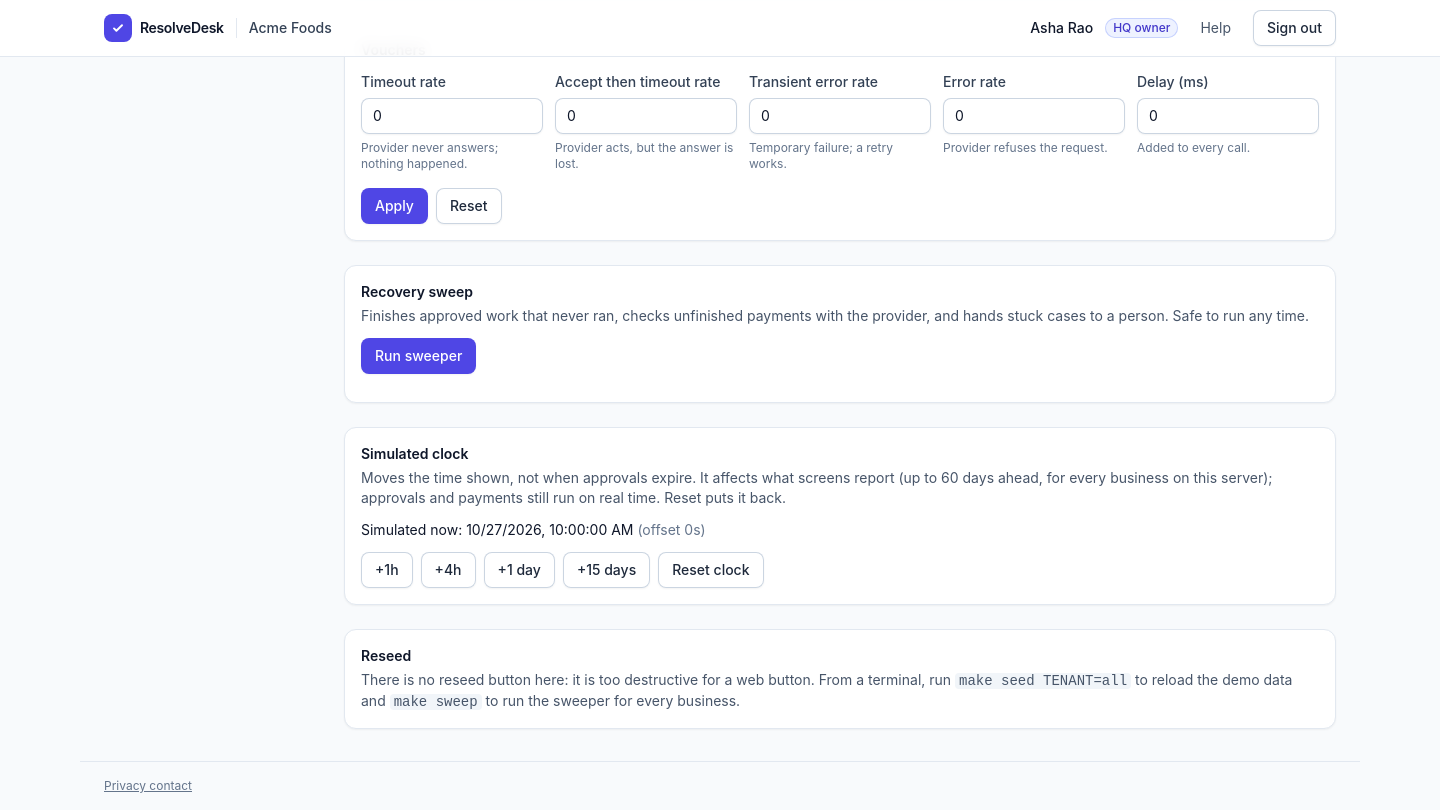
Test: dev panel › shows the simulated clock and moves or resets it
The image size is (1440, 810).
(page scrolled)
Expected: the text with test id "clock-offset" shows "offset 0s", [637, 521, 706, 538]
Click the button "+1h". click: [387, 570]
box: [361, 552, 413, 588]
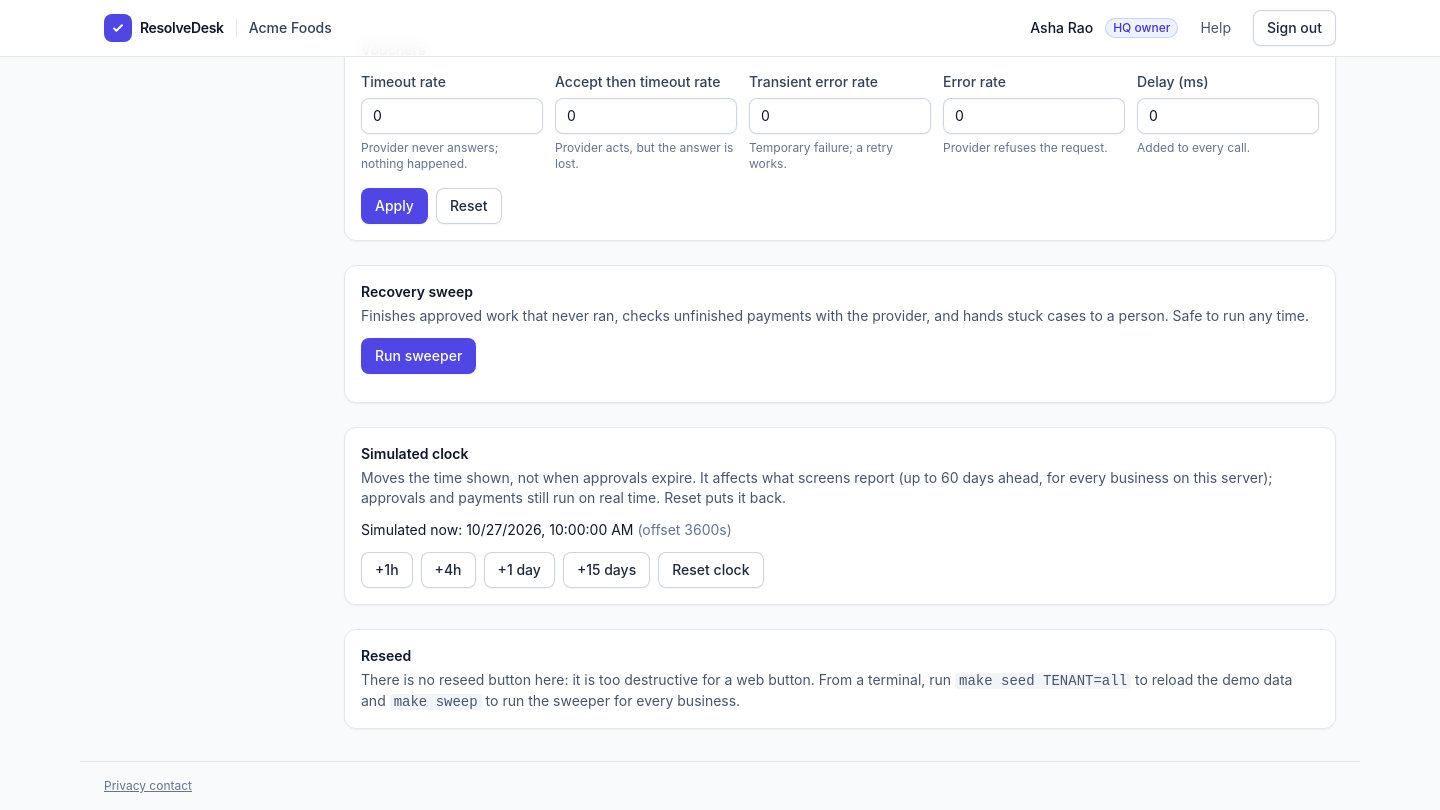
Click the button "+4h". click: [448, 570]
box: [421, 552, 476, 588]
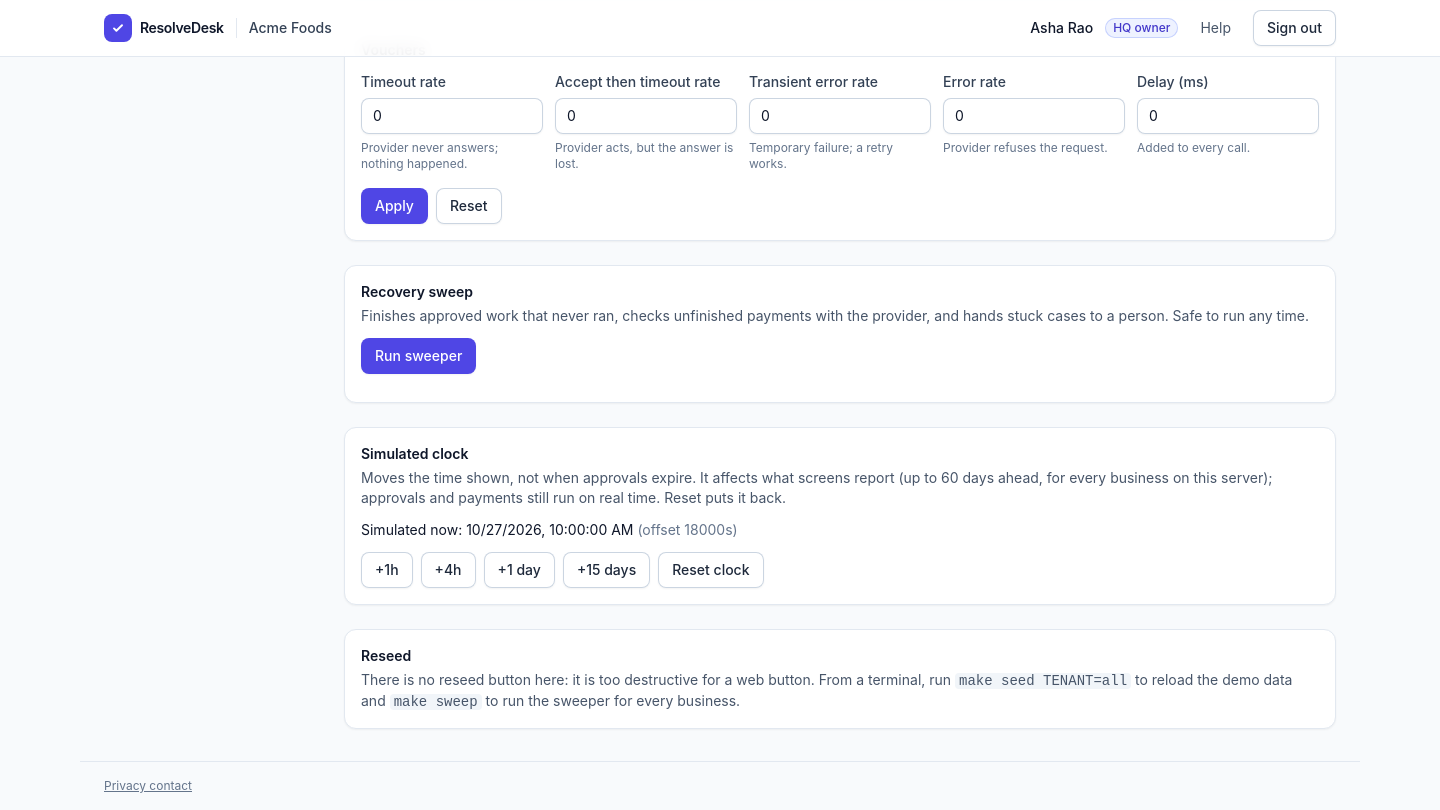
Click the button "+1 day". click: [519, 570]
box: [484, 552, 555, 588]
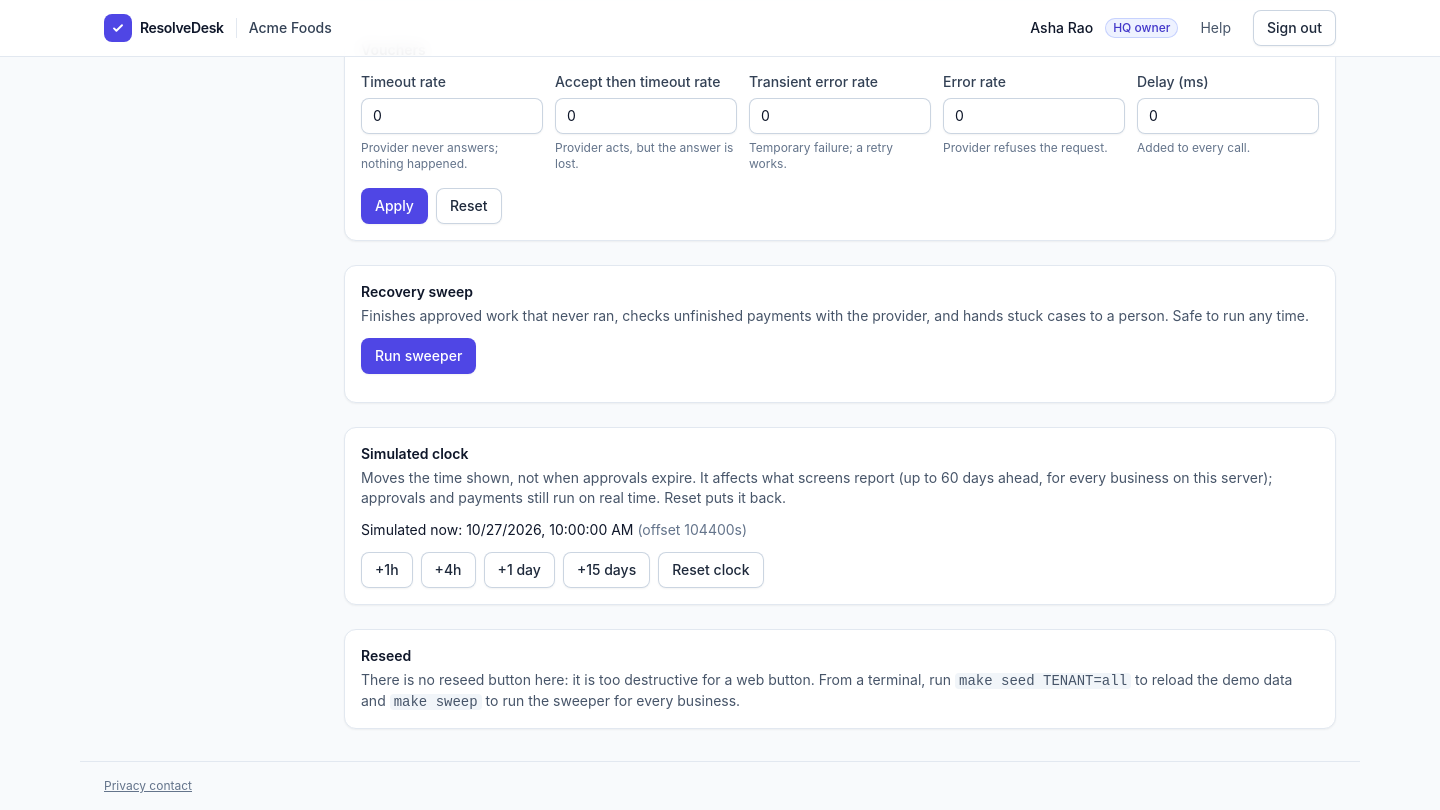
Click the button "+15 days". click: [607, 570]
box: [563, 552, 650, 588]
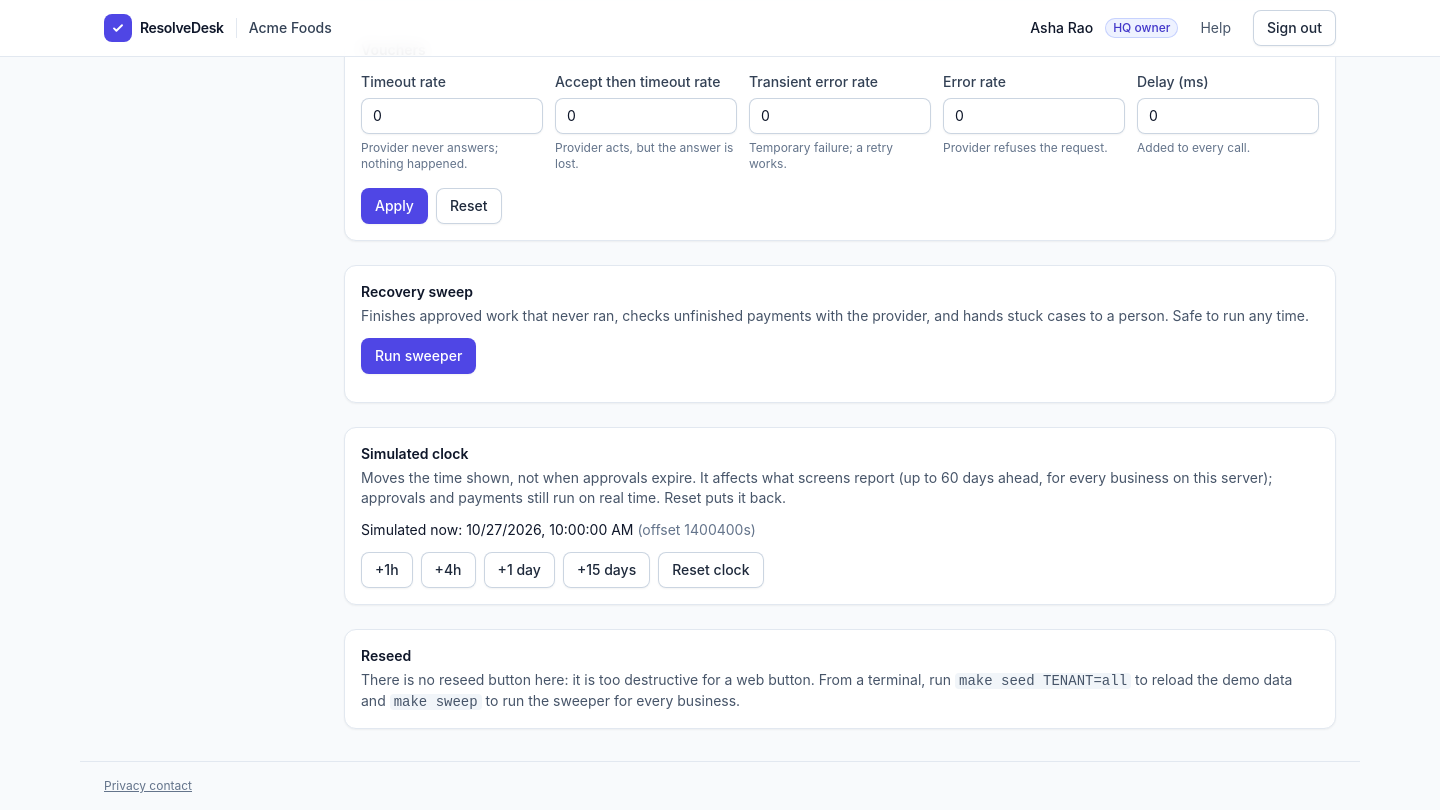
Click the button "Reset clock". click: [711, 570]
box: [658, 552, 764, 588]
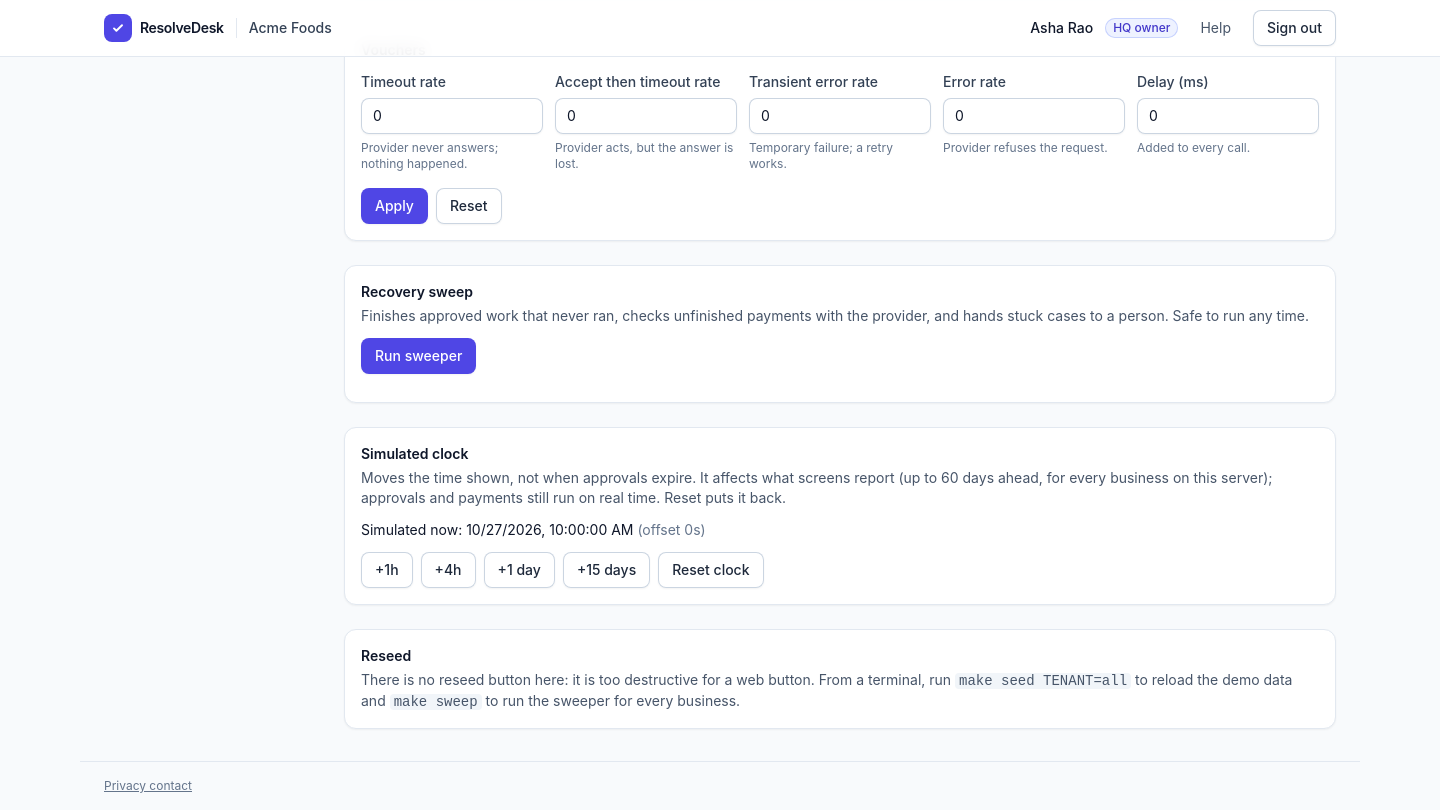
Result: the text "(offset 0s)" is shown at [637, 521, 706, 538]
